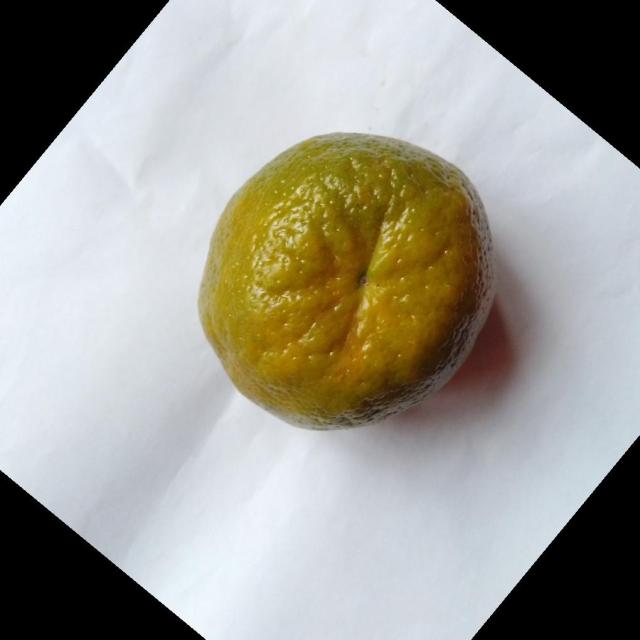fresh orange: (196, 130, 497, 431)
